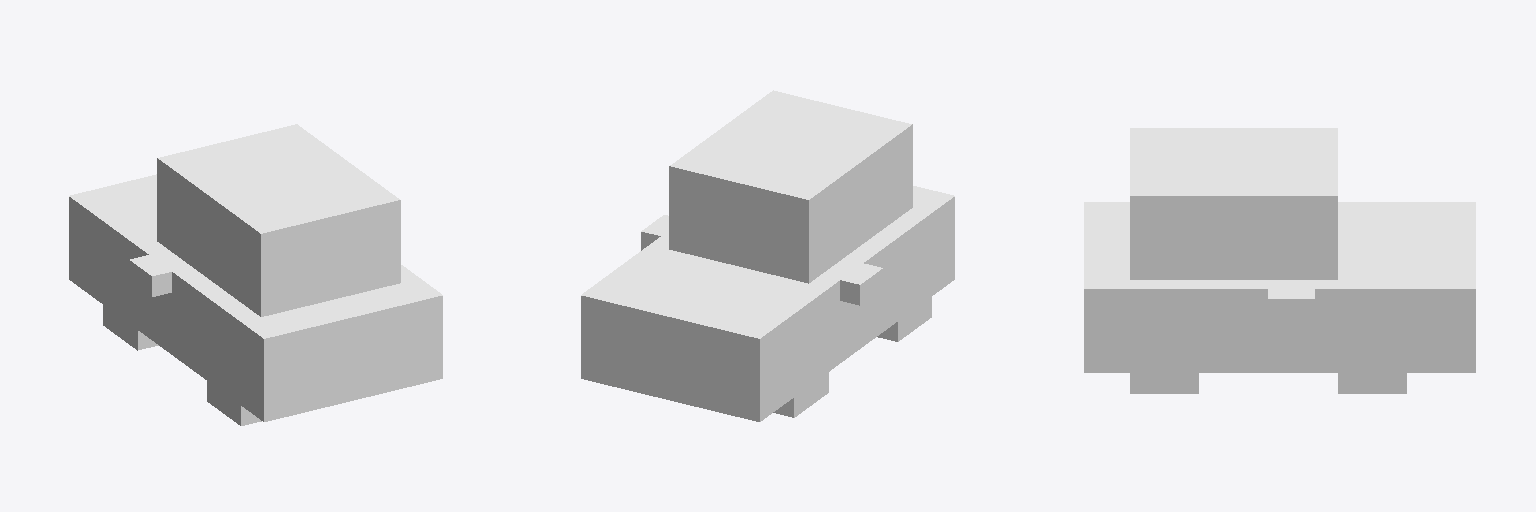
The model's file is car_1.obj.
3 views of the same model, side by side, from view 1: azimuth 30°, elevation 25°; view 2: azimuth 150°, elevation 25°; view 3: azimuth 270°, elevation 25° (orthographic).
Visible parts, largest first — view 1: car_1; view 2: car_1; view 3: car_1.
Boxes of the visible parts, x1=… form: car_1: x1=69, y1=124, x2=442, y2=425; car_1: x1=581, y1=90, x2=954, y2=421; car_1: x1=1084, y1=128, x2=1475, y2=393.
Bounding box in the file's own units: 11 × 9 × 17.